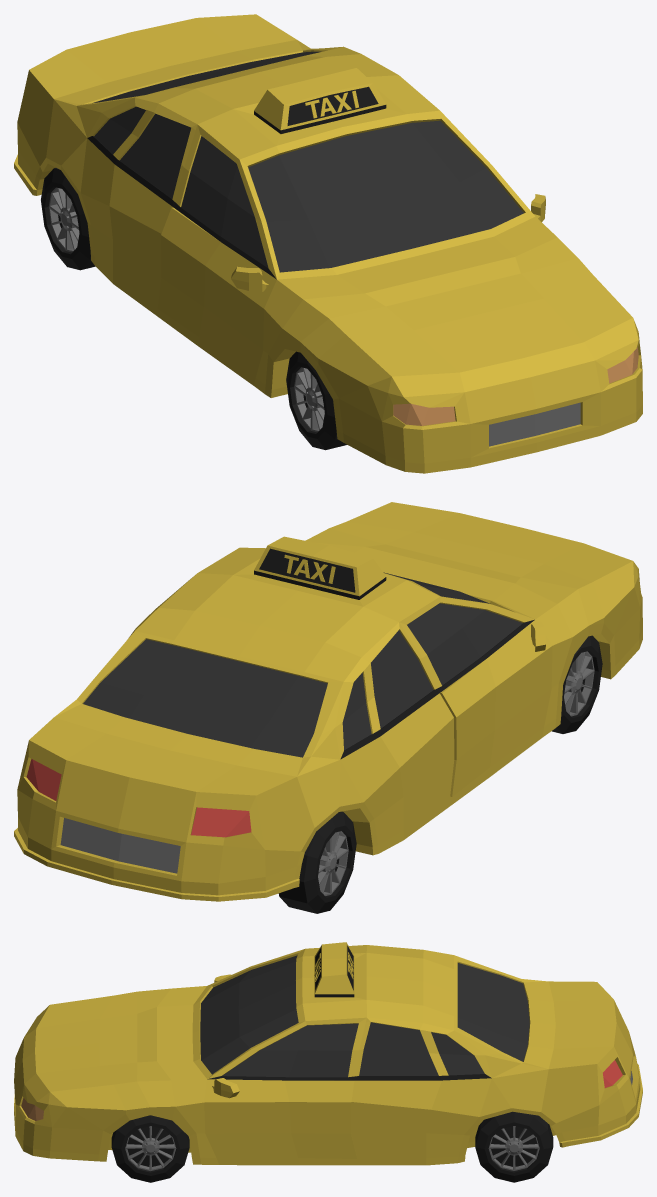
File: Taxi.glb
3 renders of one model, top to bottom at view 1: azimuth 30°, elevation 25°; view 2: azimuth 150°, elevation 25°; view 3: azimuth 270°, elevation 25°, orthographic. The views are drawn at different scales.
Parts seen in each view (by area): view 1: Taxi, Taxi_BackWheels, Taxi_FrontRightWheel; view 2: Taxi, Taxi_BackWheels, Taxi_FrontRightWheel; view 3: Taxi, Taxi_BackWheels, Taxi_FrontLeftWheel.
Boxes of the visible parts, x1,y1,x2,y2 form: Taxi: [14, 14, 642, 473]; Taxi_BackWheels: [41, 168, 95, 270]; Taxi_FrontRightWheel: [286, 351, 346, 450]; Taxi: [14, 502, 642, 901]; Taxi_BackWheels: [278, 811, 356, 913]; Taxi_FrontRightWheel: [552, 635, 602, 733]; Taxi: [14, 942, 642, 1165]; Taxi_BackWheels: [475, 1111, 553, 1182]; Taxi_FrontLeftWheel: [111, 1115, 189, 1182].
Bounding box in the file's own units: 1.81 × 1.31 × 4.22.
